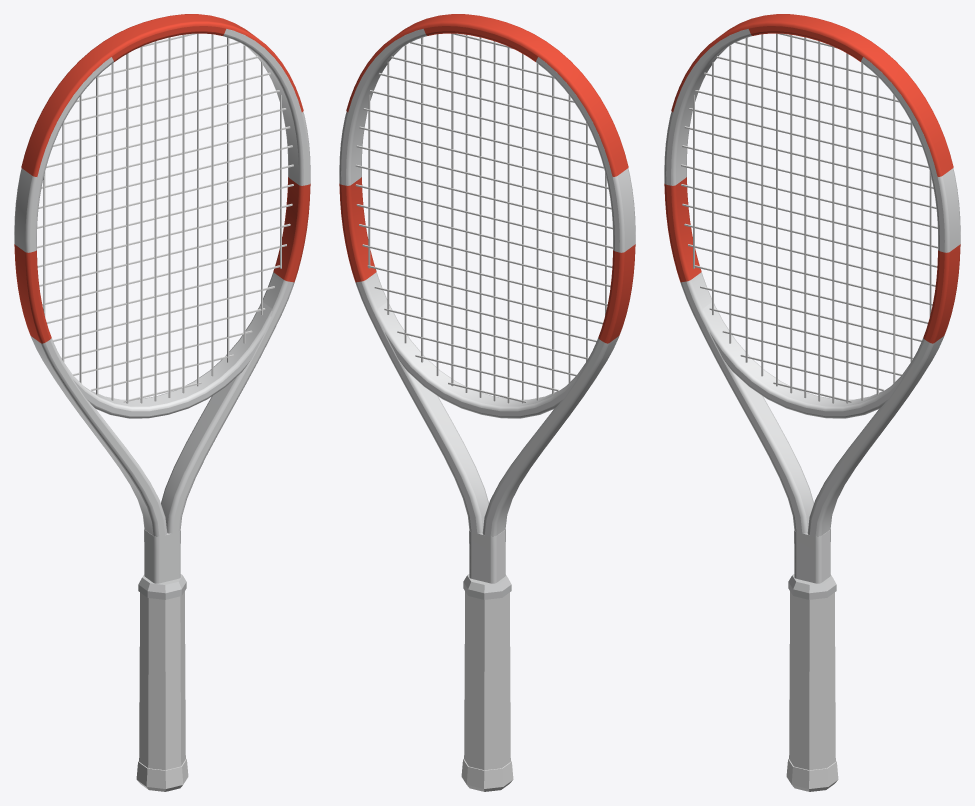
File: babolat-pure-strike-103-2022.glb
The picture shows the model from 3 angles, left to right: view 1: azimuth 30°, elevation 25°; view 2: azimuth 150°, elevation 25°; view 3: azimuth 330°, elevation 25°; orthographic projection.
Visible parts, largest first — view 1: frame, strings_mains, strings_crosses, grip, bumper, butt_cap, collar; view 2: frame, strings_mains, strings_crosses, grip, bumper, butt_cap, collar; view 3: frame, strings_mains, strings_crosses, grip, bumper, butt_cap, collar.
Boxes of the visible parts, left/top/right/bottom form: frame: left=14, top=26, right=310, bottom=583; strings_mains: left=43, top=33, right=281, bottom=403; strings_crosses: left=37, top=33, right=293, bottom=402; grip: left=139, top=591, right=185, bottom=770; bumper: left=21, top=14, right=303, bottom=176; butt_cap: left=136, top=758, right=188, bottom=791; collar: left=138, top=574, right=186, bottom=599; frame: left=339, top=26, right=635, bottom=583; strings_mains: left=368, top=34, right=606, bottom=403; strings_crosses: left=355, top=33, right=612, bottom=402; grip: left=464, top=591, right=510, bottom=770; bumper: left=346, top=14, right=628, bottom=176; butt_cap: left=461, top=758, right=513, bottom=791; collar: left=463, top=574, right=511, bottom=599; frame: left=664, top=26, right=960, bottom=583; strings_mains: left=693, top=33, right=931, bottom=403; strings_crosses: left=681, top=33, right=937, bottom=402; grip: left=789, top=591, right=835, bottom=770; bumper: left=671, top=14, right=953, bottom=176; butt_cap: left=786, top=758, right=838, bottom=791; collar: left=788, top=574, right=836, bottom=599.
Size of the model in its own units: 0.2695 by 0.6861 by 0.0396.
